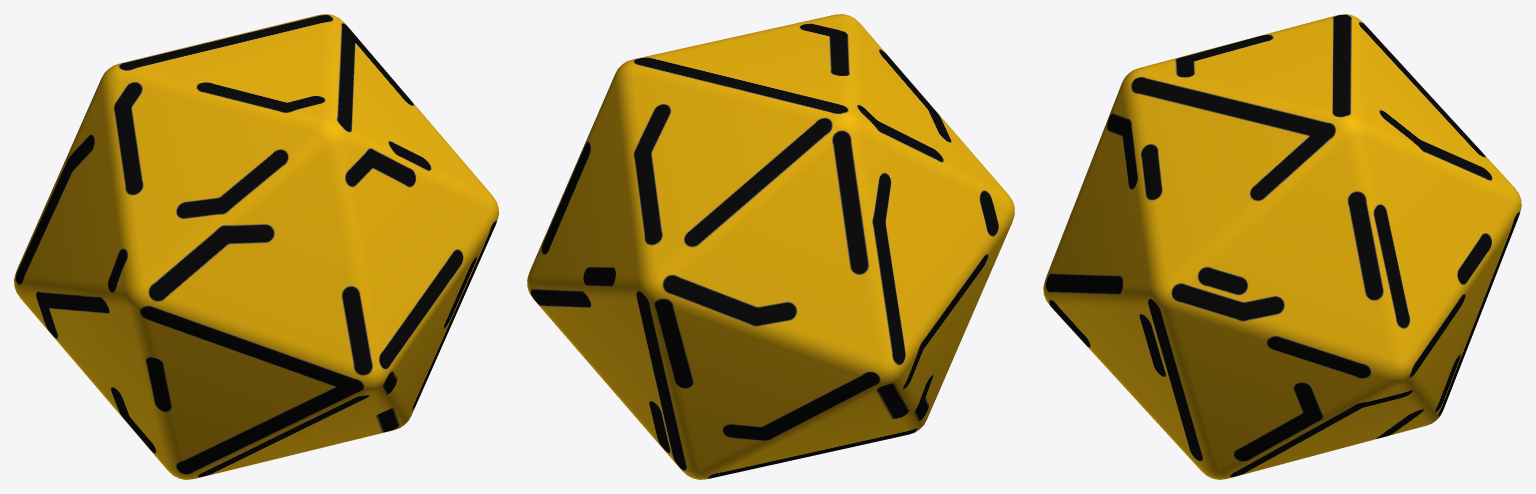
The picture shows the model from 3 angles, left to right: view 1: azimuth 30°, elevation 25°; view 2: azimuth 150°, elevation 25°; view 3: azimuth 270°, elevation 25°; orthographic projection.
Parts seen in each view (by area): view 1: Hedra001; view 2: Hedra001; view 3: Hedra001.
Part boxes in pixels (left/top/right/bottom): Hedra001: left=14, top=14, right=498, bottom=479; Hedra001: left=527, top=14, right=1014, bottom=479; Hedra001: left=1043, top=14, right=1521, bottom=479.
Bounding box in the file's own units: 8.42 × 8.01 × 9.52.
Materials: 1 (1 with a texture image).
